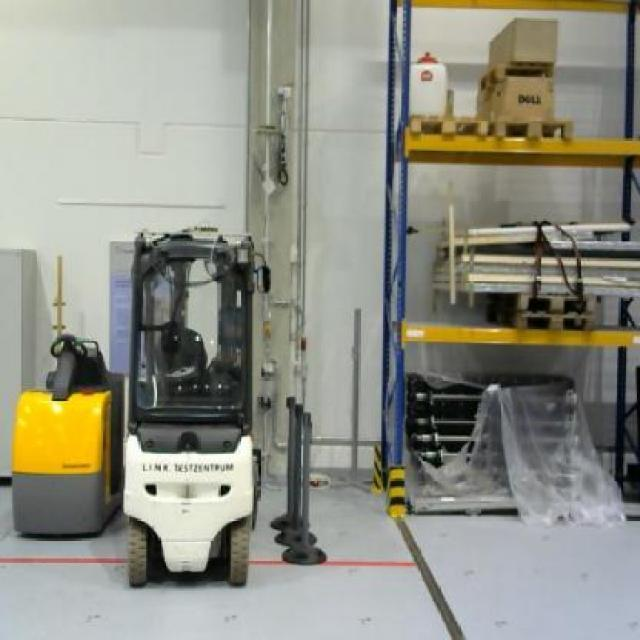box: (476, 73, 556, 122), (487, 15, 558, 63)
